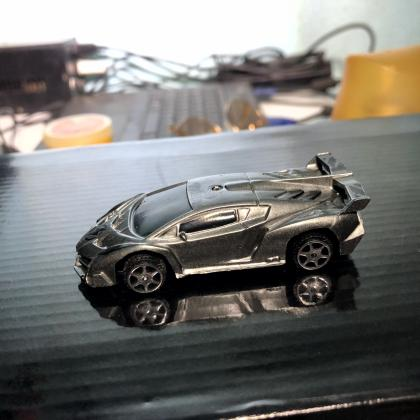Car: (68, 147, 377, 301)
